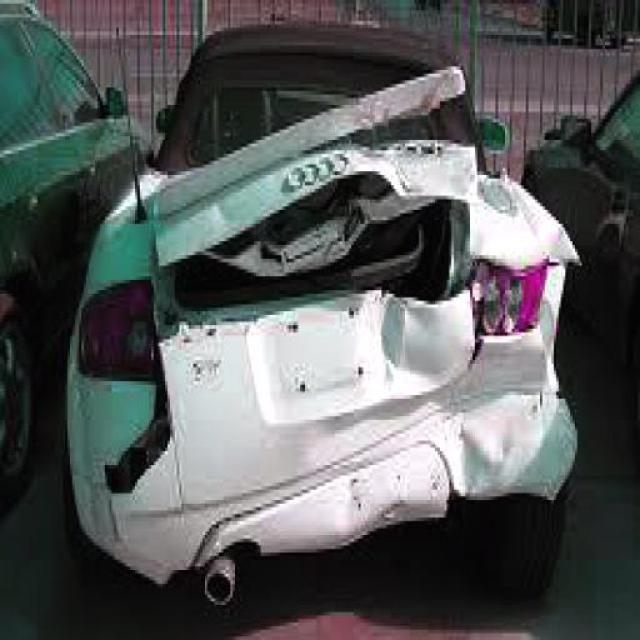Car-Damage: (105, 65, 582, 571)
